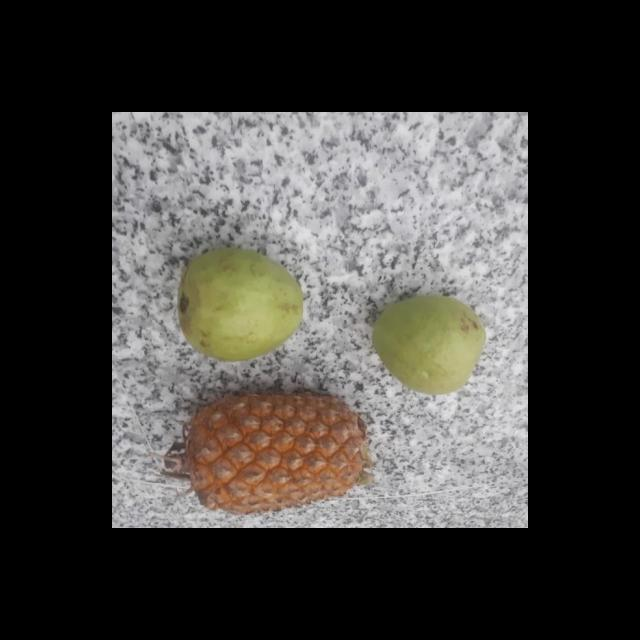guava: (170, 252, 302, 358), (367, 297, 485, 391)
pineapple: (175, 388, 370, 516)
